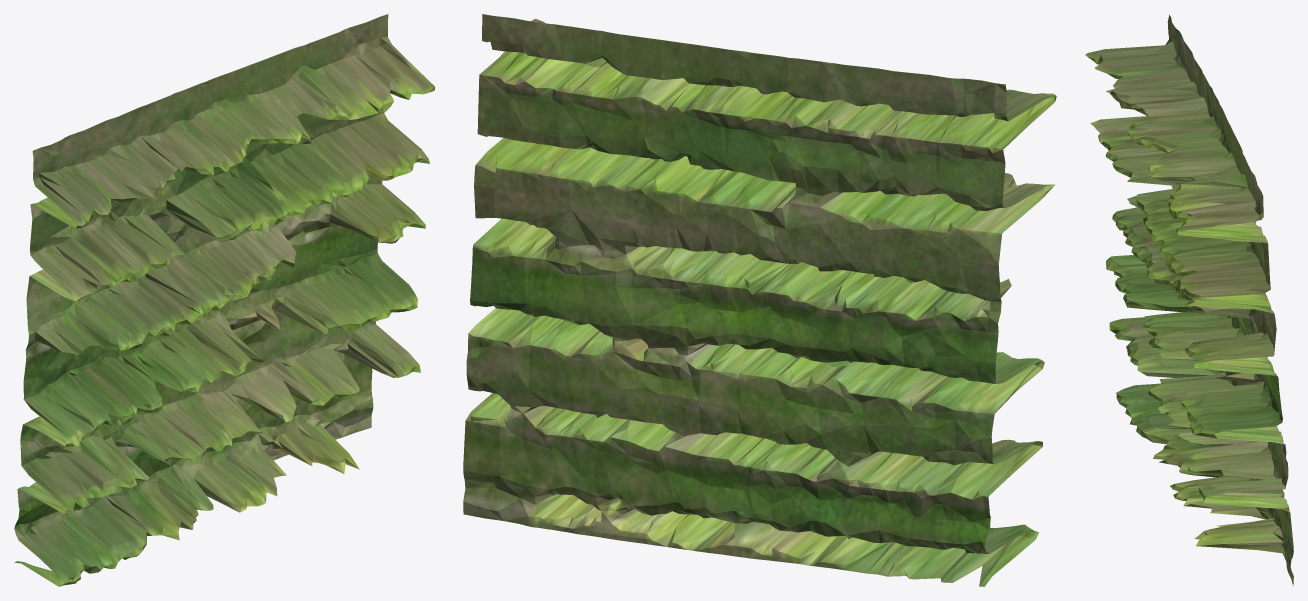
File: map_180_20.obj
3 renders of one model, left to right at view 1: azimuth 30°, elevation 25°; view 2: azimuth 150°, elevation 25°; view 3: azimuth 270°, elevation 25°, orthographic. The views are drawn at different scales.
Parts seen in each view (by area): view 1: grp1; view 2: grp1; view 3: grp1.
Boxes of the visible parts, x1,y1,x2,y2 form: grp1: (14, 14, 434, 586); grp1: (463, 14, 1056, 586); grp1: (1085, 14, 1293, 585).
Bounding box in the file's own units: 10 × 10 × 4.85.
1 material, 1 textured.
